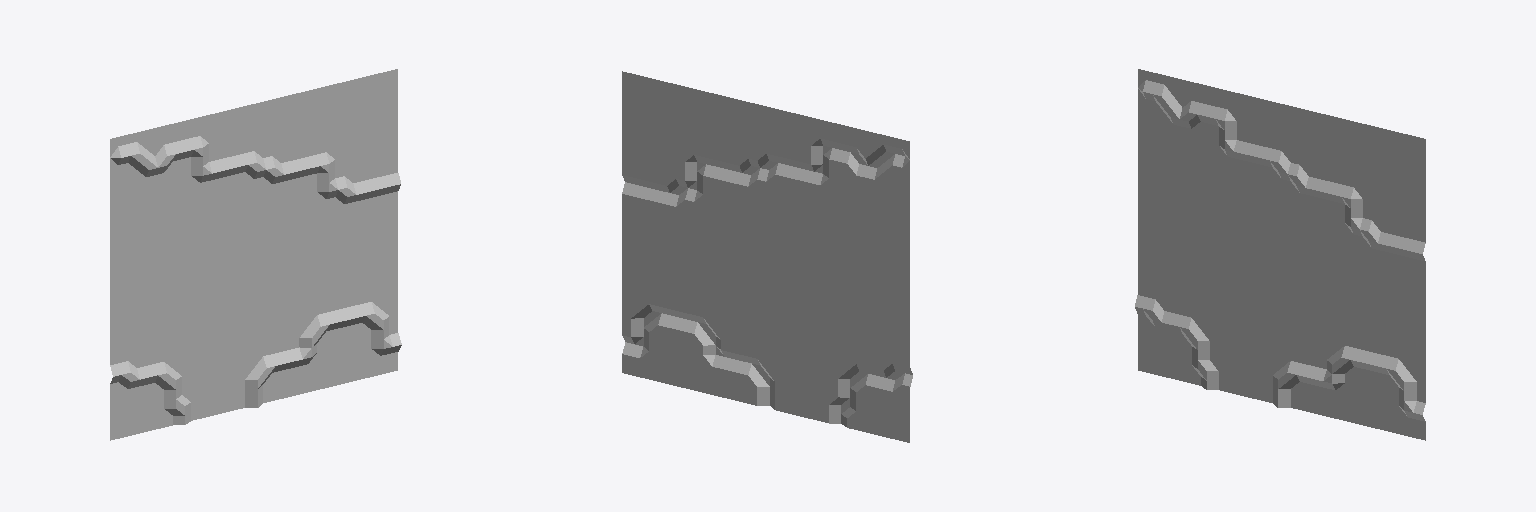
File: Game Floor.obj
3 renders of one model, left to right at view 1: azimuth 30°, elevation 25°; view 2: azimuth 150°, elevation 25°; view 3: azimuth 330°, elevation 25°, orthographic.
Parts seen in each view (by area): view 1: Mesh; view 2: Mesh; view 3: Mesh.
Boxes of the visible parts, <box> form: Mesh: <box>110,69,401,440</box>; Mesh: <box>622,71,912,442</box>; Mesh: <box>1135,69,1425,440</box>.
Size of the model in its own units: 100 by 100 by 2.09.